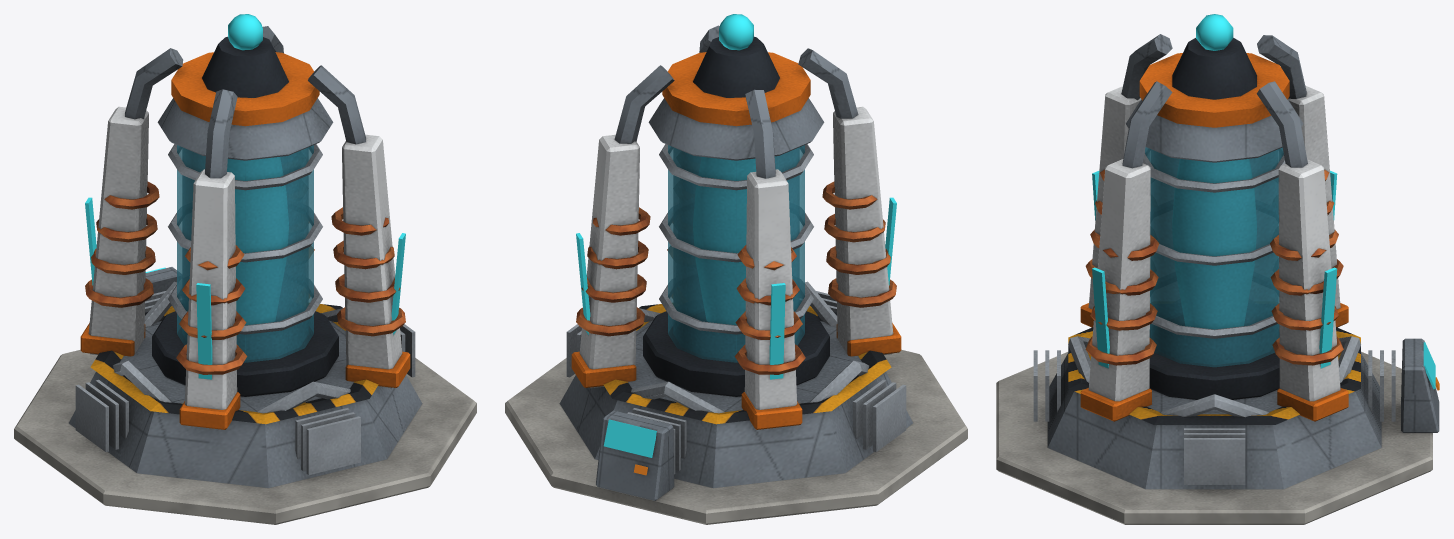
Rendered from generador_energia.fbx.
The picture shows the model from 3 angles, left to right: view 1: azimuth 30°, elevation 25°; view 2: azimuth 150°, elevation 25°; view 3: azimuth 270°, elevation 25°; orthographic projection.
Visible parts, largest first — view 1: generador_energia, generador_energia_cristal, generador_energia_neon; view 2: generador_energia, generador_energia_cristal, generador_energia_neon; view 3: generador_energia, generador_energia_cristal, generador_energia_neon.
Boxes of the visible parts, <box> form: generador_energia: <box>14,26,476,524</box>; generador_energia_cristal: <box>177,145,313,362</box>; generador_energia_neon: <box>85,14,405,379</box>; generador_energia: <box>505,25,967,524</box>; generador_energia_cristal: <box>668,145,804,362</box>; generador_energia_neon: <box>576,14,896,457</box>; generador_energia: <box>996,34,1439,524</box>; generador_energia_cristal: <box>1145,147,1283,367</box>; generador_energia_neon: <box>1092,14,1435,389</box>.
Size of the model in its own units: 15.71 by 16.6 by 15.95.
Materials: 3 (3 with a texture image).
